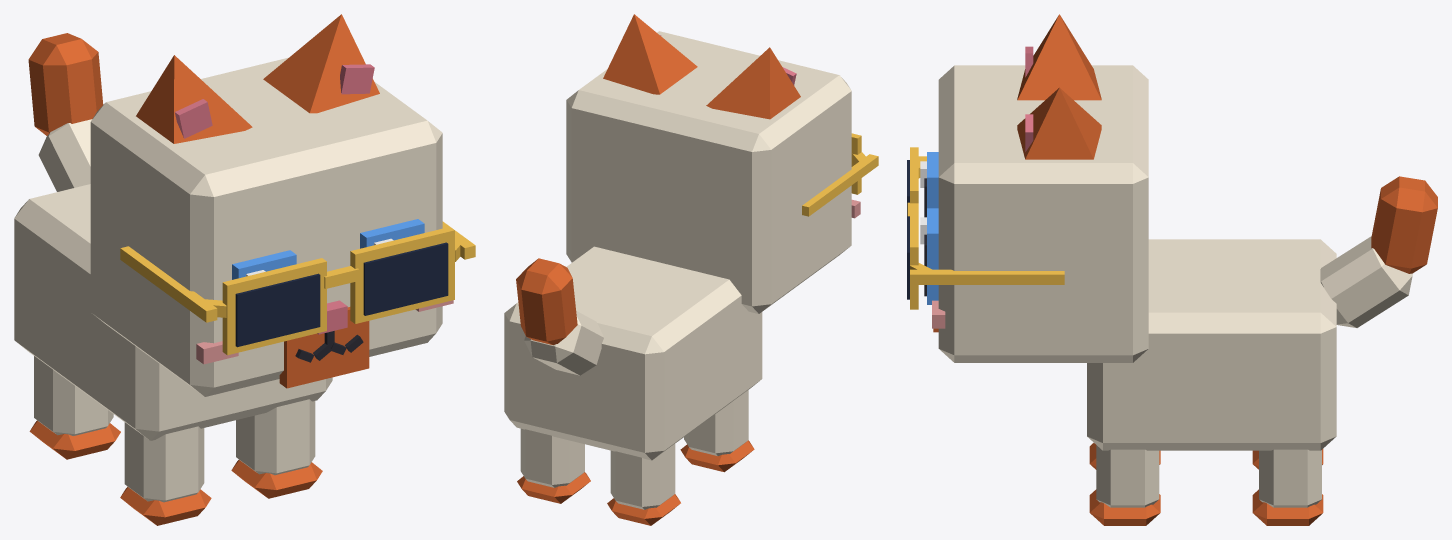
Rendered from CatCafe_Cat_Sunny.glb.
The picture shows the model from 3 angles, left to right: view 1: azimuth 30°, elevation 25°; view 2: azimuth 150°, elevation 25°; view 3: azimuth 270°, elevation 25°; orthographic projection. The views are drawn at different scales.
Parts seen in each view (by area): view 1: CatCafe_Cat_Sunny_Head, CatCafe_Cat_Sunny_Body, CatCafe_Cat_Sunny_Prop, CatCafe_Cat_Sunny_Tail, CatCafe_Cat_Sunny_LegF2, CatCafe_Cat_Sunny_LegF1, CatCafe_Cat_Sunny_EarL, CatCafe_Cat_Sunny_LegB2, CatCafe_Cat_Sunny_EarR, CatCafe_Cat_Sunny_Eye1, CatCafe_Cat_Sunny_Eye2; view 2: CatCafe_Cat_Sunny_Head, CatCafe_Cat_Sunny_Body, CatCafe_Cat_Sunny_Tail, CatCafe_Cat_Sunny_LegB2, CatCafe_Cat_Sunny_EarL, CatCafe_Cat_Sunny_LegB1, CatCafe_Cat_Sunny_EarR, CatCafe_Cat_Sunny_LegF2, CatCafe_Cat_Sunny_Prop; view 3: CatCafe_Cat_Sunny_Head, CatCafe_Cat_Sunny_Body, CatCafe_Cat_Sunny_Tail, CatCafe_Cat_Sunny_LegF1, CatCafe_Cat_Sunny_LegB1, CatCafe_Cat_Sunny_EarR, CatCafe_Cat_Sunny_EarL, CatCafe_Cat_Sunny_Prop, CatCafe_Cat_Sunny_Eye1, CatCafe_Cat_Sunny_Eye2.
Part boxes in pixels (x1=…): CatCafe_Cat_Sunny_Head: x1=90, y1=57, x2=453, y2=396; CatCafe_Cat_Sunny_Body: x1=14, y1=184, x2=332, y2=440; CatCafe_Cat_Sunny_Prop: x1=120, y1=221, x2=475, y2=355; CatCafe_Cat_Sunny_Tail: x1=28, y1=33, x2=103, y2=191; CatCafe_Cat_Sunny_LegF2: x1=120, y1=422, x2=211, y2=525; CatCafe_Cat_Sunny_LegF1: x1=231, y1=399, x2=322, y2=498; CatCafe_Cat_Sunny_EarL: x1=263, y1=14, x2=379, y2=113; CatCafe_Cat_Sunny_LegB2: x1=29, y1=356, x2=120, y2=459; CatCafe_Cat_Sunny_EarR: x1=136, y1=55, x2=252, y2=143; CatCafe_Cat_Sunny_Eye1: x1=360, y1=219, x2=424, y2=248; CatCafe_Cat_Sunny_Eye2: x1=232, y1=250, x2=296, y2=279; CatCafe_Cat_Sunny_Head: x1=566, y1=31, x2=860, y2=313; CatCafe_Cat_Sunny_Body: x1=504, y1=246, x2=762, y2=460; CatCafe_Cat_Sunny_Tail: x1=516, y1=258, x2=603, y2=375; CatCafe_Cat_Sunny_LegB2: x1=607, y1=443, x2=680, y2=525; CatCafe_Cat_Sunny_EarL: x1=603, y1=14, x2=697, y2=94; CatCafe_Cat_Sunny_LegB1: x1=517, y1=428, x2=590, y2=503; CatCafe_Cat_Sunny_EarR: x1=706, y1=47, x2=800, y2=119; CatCafe_Cat_Sunny_LegF2: x1=680, y1=390, x2=754, y2=472; CatCafe_Cat_Sunny_Prop: x1=802, y1=133, x2=878, y2=216; CatCafe_Cat_Sunny_Head: x1=932, y1=65, x2=1148, y2=362; CatCafe_Cat_Sunny_Body: x1=1087, y1=239, x2=1336, y2=450; CatCafe_Cat_Sunny_Tail: x1=1320, y1=176, x2=1437, y2=327; CatCafe_Cat_Sunny_LegF1: x1=1089, y1=445, x2=1160, y2=525; CatCafe_Cat_Sunny_LegB1: x1=1252, y1=449, x2=1323, y2=525; CatCafe_Cat_Sunny_EarR: x1=1017, y1=14, x2=1101, y2=100; CatCafe_Cat_Sunny_EarL: x1=1017, y1=87, x2=1101, y2=159; CatCafe_Cat_Sunny_Prop: x1=907, y1=147, x2=1064, y2=309; CatCafe_Cat_Sunny_Eye1: x1=920, y1=208, x2=938, y2=304; CatCafe_Cat_Sunny_Eye2: x1=920, y1=152, x2=938, y2=217.
Size of the model in its own units: 1.07 by 1.86 by 2.02.
Materials: 1 (1 with a texture image).
